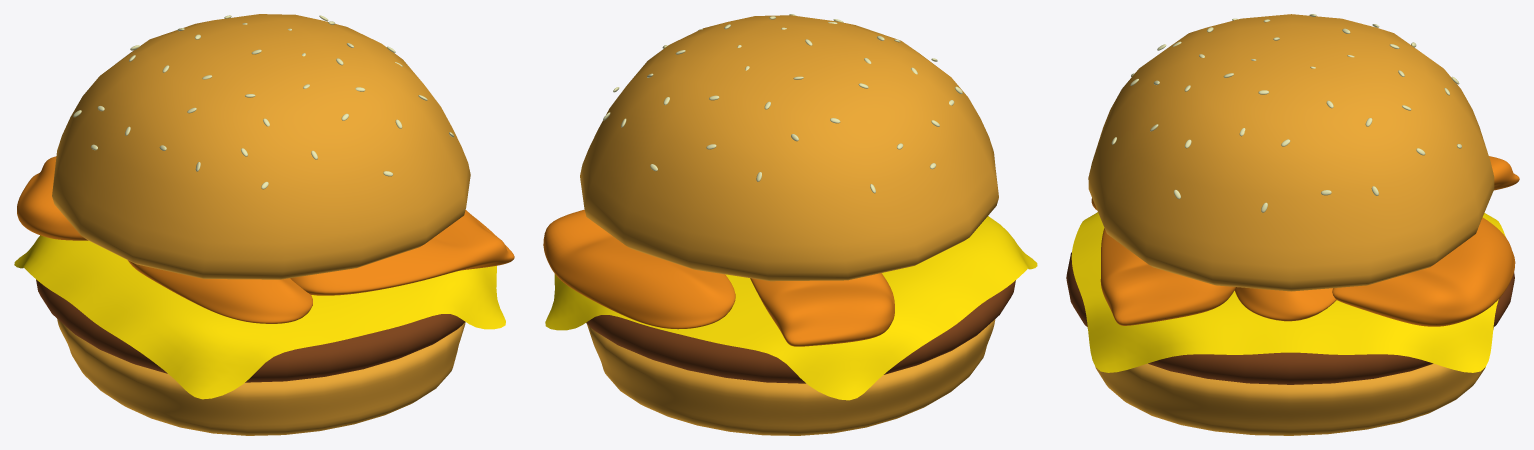
The model's file is burger.glb.
The picture shows the model from 3 angles, left to right: view 1: azimuth 30°, elevation 25°; view 2: azimuth 150°, elevation 25°; view 3: azimuth 270°, elevation 25°; orthographic projection.
Visible parts, largest first — view 1: panArriba, queso, panAbajo, nuggets, carne; view 2: panArriba, queso, nuggets, panAbajo, carne; view 3: panArriba, queso, nuggets, panAbajo, carne.
Boxes of the visible parts, x1,y1,x2,y2 form: panArriba: (52, 14, 470, 279); queso: (14, 235, 505, 399); panAbajo: (57, 318, 465, 435); nuggets: (17, 156, 514, 323); carne: (36, 279, 464, 382); panArriba: (580, 14, 998, 281); queso: (545, 216, 1037, 400); nuggets: (543, 209, 894, 346); panAbajo: (587, 319, 995, 435); carne: (586, 280, 1015, 383); panArriba: (1088, 14, 1494, 291); queso: (1071, 212, 1505, 372); nuggets: (1091, 156, 1519, 326); panAbajo: (1087, 327, 1493, 435); carne: (1066, 252, 1514, 384).
Bounding box in the file's own units: 2.07 × 1.69 × 2.09.
